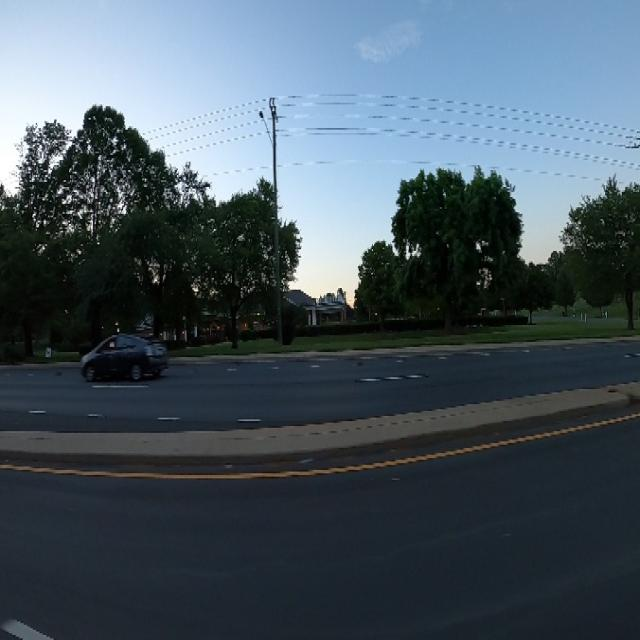cars: (69, 327, 176, 388)
